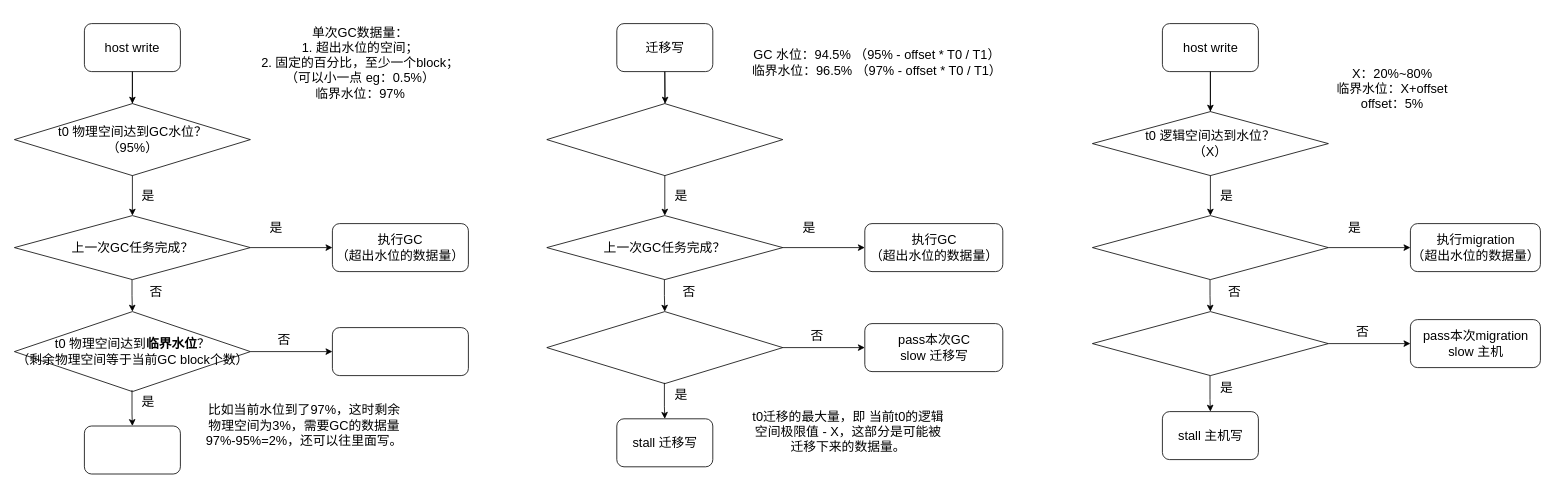
Some shapes in this 1554 by 494 pixel diagram are drawn without their labels. Here are the shapes that lost their labels. From the top down, the box of each, then its label:
(546, 103, 783, 176): t1 物理空间达到GC水位？ （？%）
(1092, 215, 1328, 280): 上一次migration任务完成？
(332, 327, 468, 376): pass本次GC slow 前台写
(546, 311, 783, 384): t1 物理空间达到临界水位？ （t0 迁移的最大量+GC block个数）
(1092, 311, 1328, 376): t0 逻辑空间达到 临界水位 ？
(84, 425, 180, 474): stall 前台写
